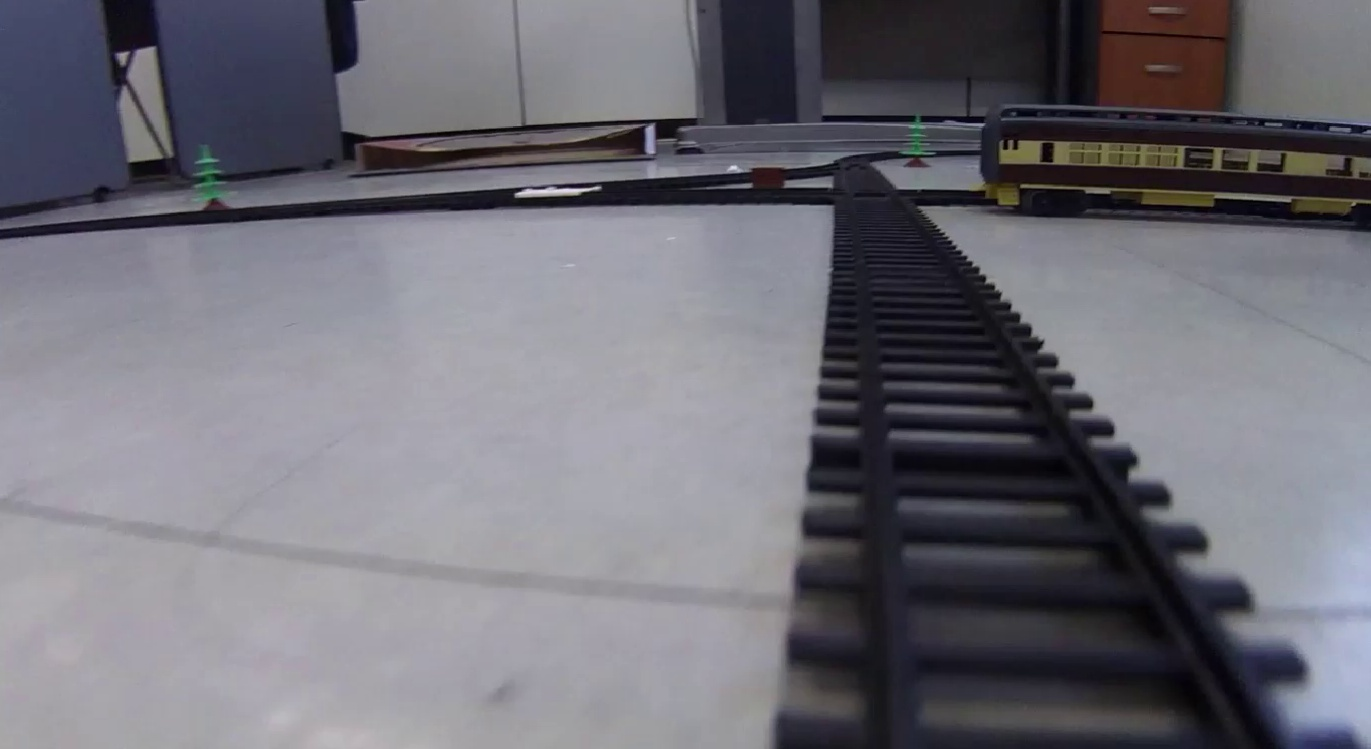tree: (188, 142, 242, 209)
